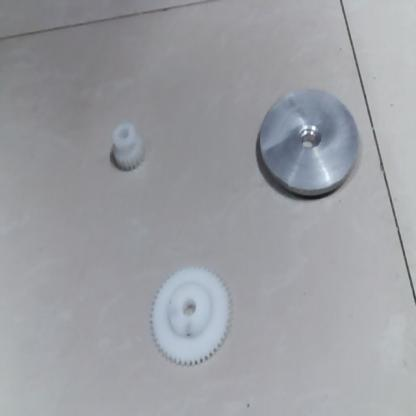FOD: (243, 82, 371, 207), (143, 262, 239, 372), (95, 121, 155, 176)
